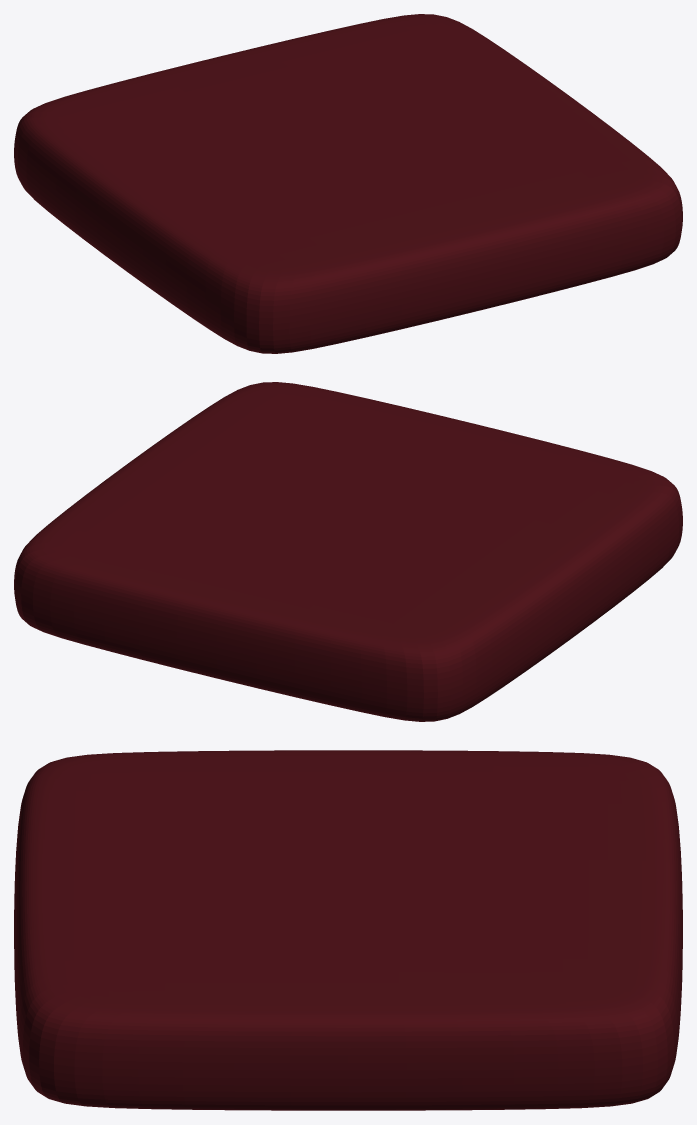
File: CakeLayerCherry.glb
3 renders of one model, top to bottom at view 1: azimuth 30°, elevation 25°; view 2: azimuth 150°, elevation 25°; view 3: azimuth 270°, elevation 25°, orthographic. The views are drawn at different scales.
Parts seen in each view (by area): view 1: Cube.036; view 2: Cube.036; view 3: Cube.036.
Boxes of the visible parts, <box> form: Cube.036: <box>14,14,682,353</box>; Cube.036: <box>14,382,682,721</box>; Cube.036: <box>14,750,682,1110</box>.
Bounding box in the file's own units: 1.99 × 0.3213 × 1.99.
